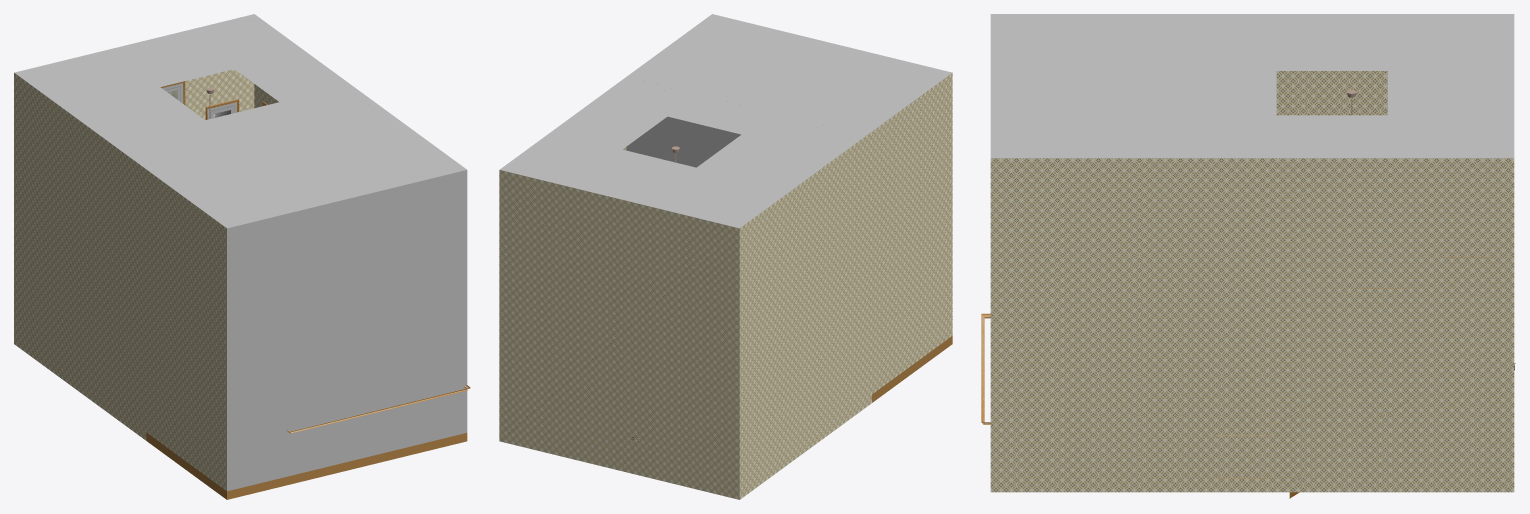
Rendered from scala.glb.
3 renders of one model, left to right at view 1: azimuth 30°, elevation 25°; view 2: azimuth 150°, elevation 25°; view 3: azimuth 270°, elevation 25°, orthographic. The views are drawn at different scales.
Parts seen in each view (by area): view 1: 209_WhitePaint2, 211_Wallpaper, 404_WhitePaint2, 403_WoodStairs, 212_WoodStairs; view 2: 211_Wallpaper, 209_WhitePaint2, 404_WhitePaint2, 207_WhitePaint, 403_WoodStairs; view 3: 211_Wallpaper, 209_WhitePaint2, 404_WhitePaint2.
Part boxes in pixels (x1,y1,x2,y2): 209_WhitePaint2: (26,19,467,491); 211_Wallpaper: (14,69,278,490); 404_WhitePaint2: (14,14,380,165); 403_WoodStairs: (146,432,467,499); 212_WoodStairs: (286,385,470,433); 211_Wallpaper: (499,73,952,499); 209_WhitePaint2: (511,14,951,223); 404_WhitePaint2: (500,77,865,228); 207_WhitePaint: (626,116,740,167); 403_WoodStairs: (872,336,952,402); 211_Wallpaper: (990,71,1514,492); 209_WhitePaint2: (990,14,1503,158); 404_WhitePaint2: (1202,14,1514,158).
Size of what is drawn, in the model's own units: 6.61 by 7.32 by 10.34.
Materials: 25 (9 with a texture image).
